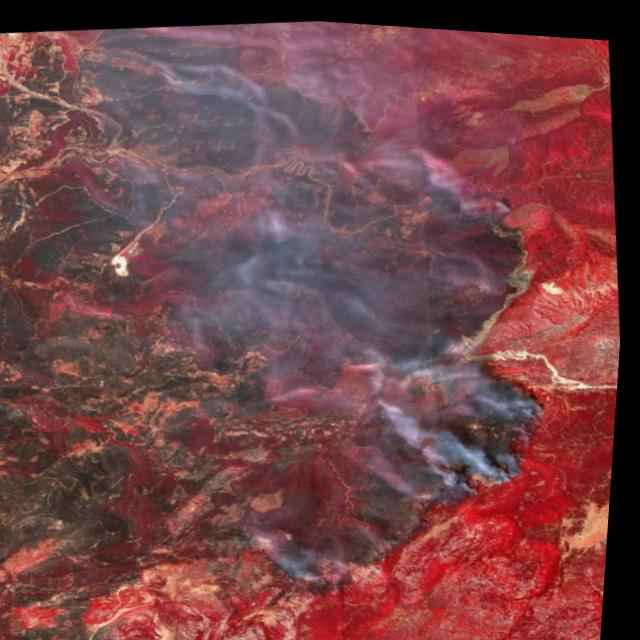fire: (337, 123, 553, 308), (382, 356, 573, 516)
